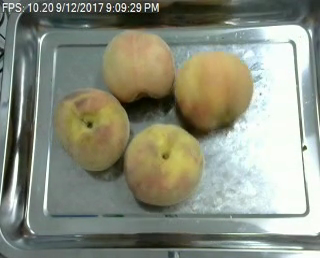Peach: (123, 123, 203, 206), (53, 87, 130, 172), (175, 51, 253, 131), (102, 29, 175, 102)
